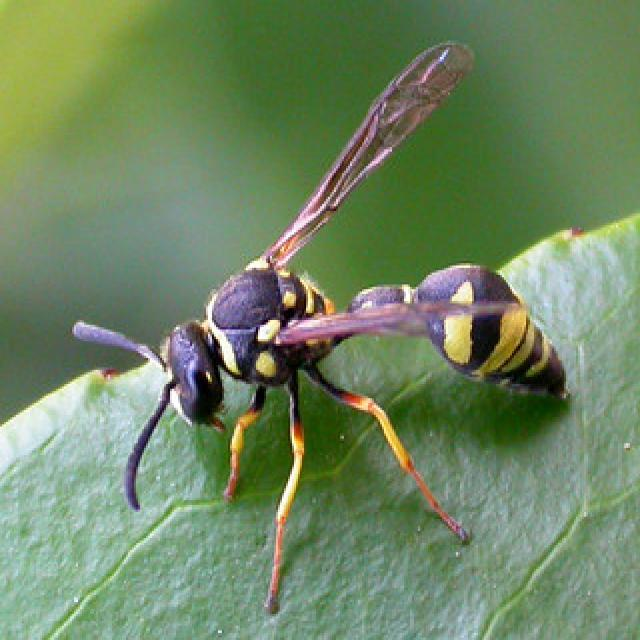Guepe: (39, 34, 588, 616)
